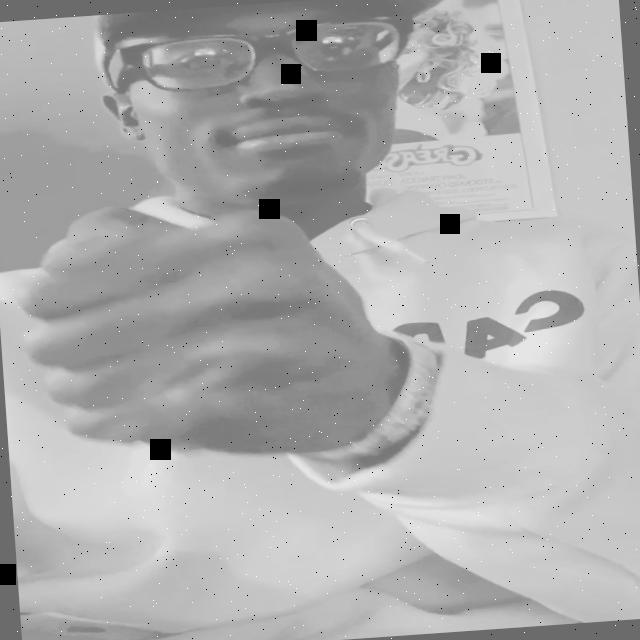Rock: (16, 190, 393, 468)
